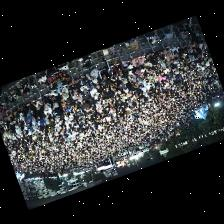person: (98, 55, 110, 79), (161, 49, 174, 63), (144, 51, 158, 64), (131, 54, 143, 69), (68, 79, 80, 94), (42, 97, 51, 117), (113, 58, 123, 75), (85, 68, 97, 82), (46, 90, 60, 102), (124, 82, 134, 97), (109, 70, 118, 86), (74, 102, 82, 120), (57, 86, 68, 99), (141, 79, 150, 94), (29, 98, 41, 109), (24, 109, 31, 127), (52, 102, 59, 120), (80, 75, 90, 87), (18, 104, 28, 116), (100, 79, 110, 91), (89, 85, 98, 98), (79, 81, 88, 94), (139, 67, 150, 77), (71, 90, 82, 100), (61, 95, 71, 106), (87, 95, 96, 107), (176, 45, 188, 54), (80, 100, 89, 112), (146, 66, 156, 76), (91, 77, 100, 88), (12, 116, 21, 127), (170, 45, 178, 57), (128, 68, 135, 81), (143, 59, 152, 69), (116, 74, 126, 83), (97, 87, 107, 96), (35, 119, 43, 130), (158, 58, 165, 70), (18, 112, 23, 128), (162, 59, 170, 69), (122, 60, 132, 68), (29, 103, 36, 114), (197, 42, 205, 51), (95, 100, 101, 112), (47, 120, 53, 132), (81, 93, 87, 104), (1, 116, 8, 125), (158, 75, 165, 84), (43, 117, 48, 129), (15, 125, 20, 137), (186, 41, 191, 51), (31, 116, 35, 128)
